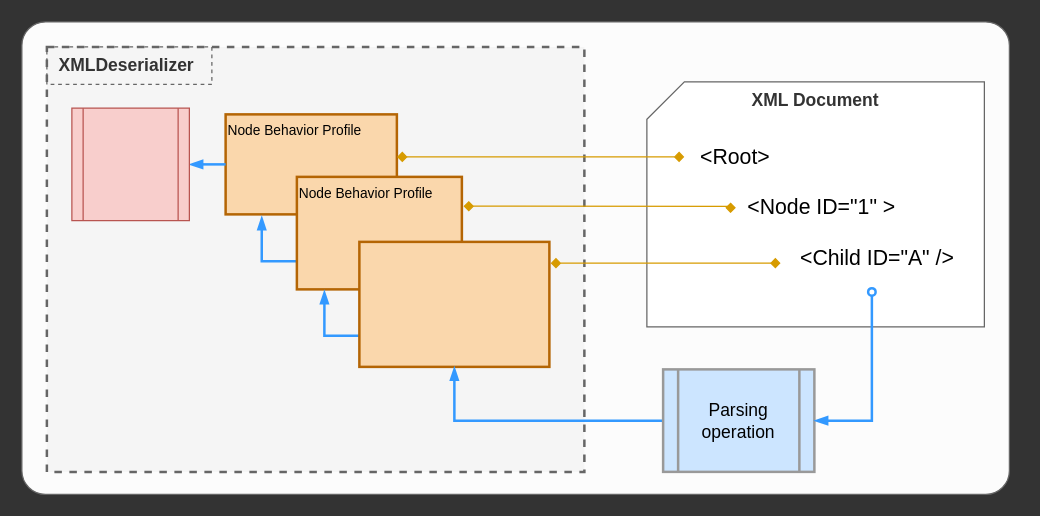
Image size: 1040x516. Some labels were removed from this diagram. The shapes that lost their labels are listed below. From the top down, each one's centre as x and y in pixels, then its label:
point 130,164: Handler
point 454,304: Node Behavior Profile Static type data Current Node Info Current Instance
